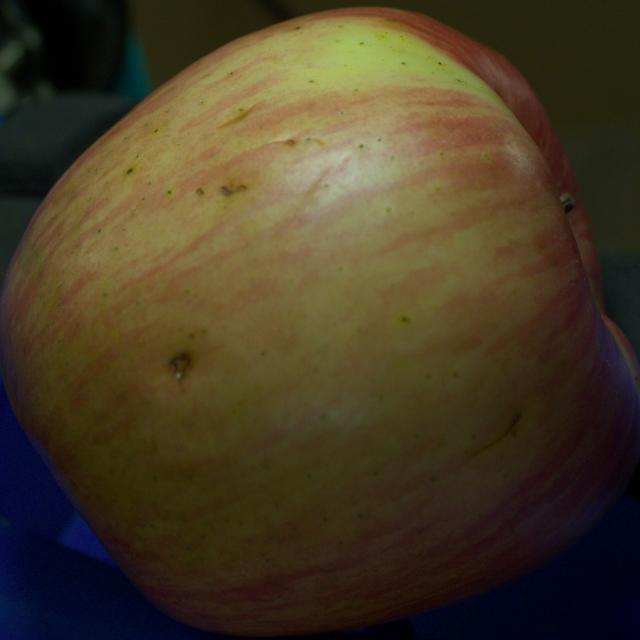apple: (0, 8, 639, 635)
pest: (170, 352, 190, 379), (220, 185, 246, 196), (287, 138, 295, 144), (196, 188, 203, 194)
scratch: (474, 412, 522, 454), (218, 104, 256, 128)
